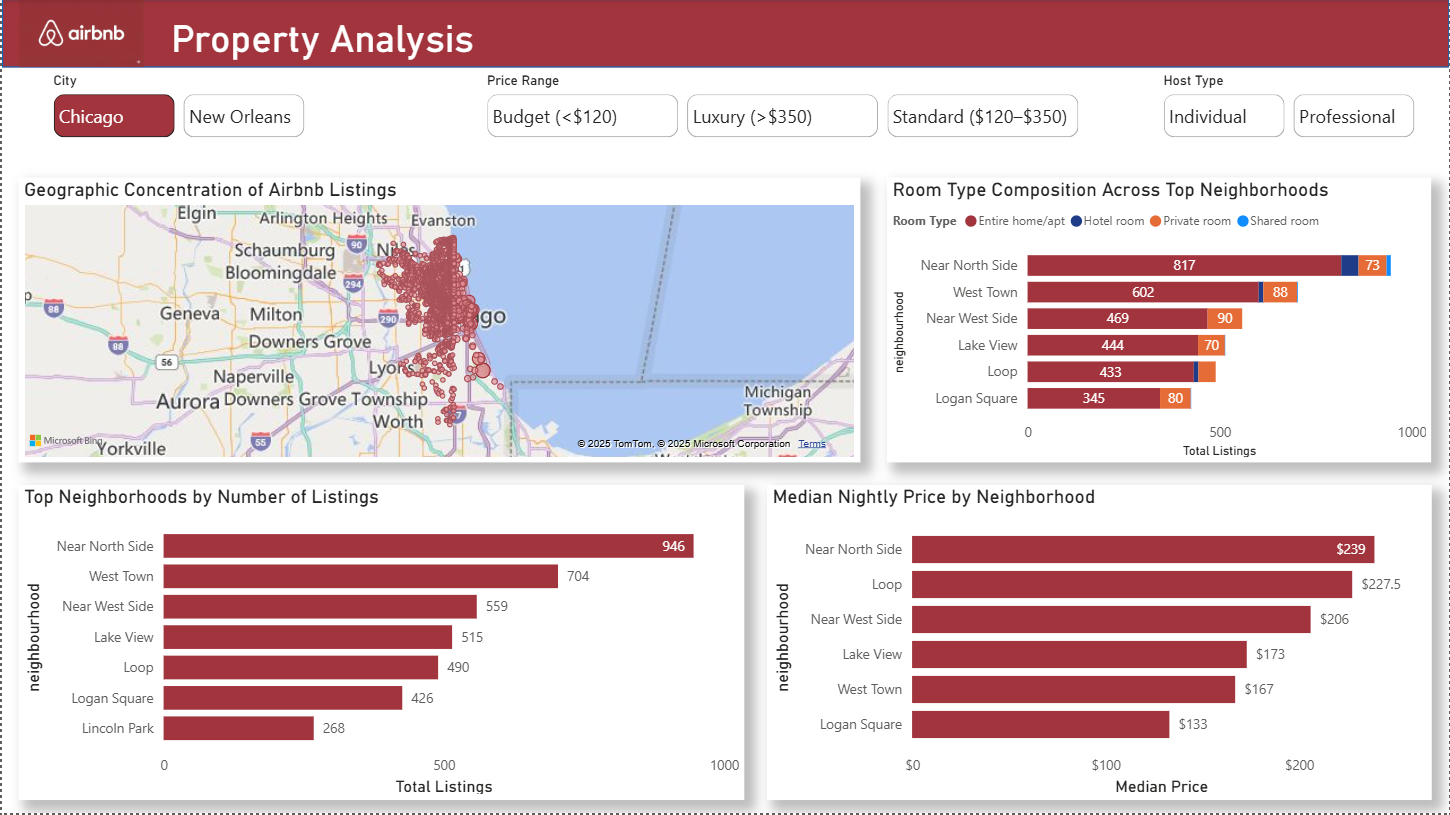

What the dashboard file says about the page in this screenshot:
{"tool":"powerbi","page":{"name":"02 – Property & Location Analysis","canvas":[1280,720],"ordinal":1},"visuals":[{"type":"group","id":"g1","title":"Group 1","box":[0,0,1280.2,59.9],"z":0},{"type":"textbox","box":[144.7,10.2,838.9,49.7],"z":1000},{"type":"map","title":"Geographic Concentration of Airbnb Listings","fields":{"X":["airbnb_clean_dataset.longitude"],"Y":["airbnb_clean_dataset.latitude"],"Size":["Kpi.Total Listings"]},"box":[14.6,157.9,744.3,252.1],"z":2000},{"type":"shape","box":[0,0,1280.2,60.6],"z":3000,"group":"g1"},{"type":"clusteredBarChart","title":"Top Neighborhoods by Number of Listings","fields":{"Category":["airbnb_clean_dataset.neighbourhood"],"Y":["Kpi.Total Listings"]},"box":[14.6,429.9,642.2,278.6],"z":3000},{"type":"barChart","title":"Room Type Composition Across Top Neighborhoods","fields":{"Series":["airbnb_clean_dataset.room_type"],"Category":["airbnb_clean_dataset.neighbourhood"],"Y":["Kpi.Total Listings"]},"box":[782.8,157.9,481.6,252.1],"z":4000},{"type":"clusteredBarChart","title":"Median Nightly Price by Neighborhood","fields":{"Category":["airbnb_clean_dataset.neighbourhood"],"Y":["Kpi.Median Price"]},"box":[676.7,429.9,587.8,278.6],"z":5000},{"type":"advancedSlicerVisual","fields":{"Values":["airbnb_clean_dataset.City"]},"box":[38.5,65,237.5,63.7],"z":6000},{"type":"advancedSlicerVisual","fields":{"Values":["airbnb_clean_dataset.Price Range"]},"box":[421.9,65,537.4,63.7],"z":7000},{"type":"image","box":[14.6,0.6,111.1,59.9],"z":8000,"group":"g1"},{"type":"advancedSlicerVisual","fields":{"Values":["airbnb_clean_dataset.Host Type"]},"box":[1020.3,65,237.5,63.7],"z":8000}]}

Visuals, with their boxes in screenshot pixels (x1, y1, x2, y2), scaled from the page's 1280x720 canvas onto the 1450x815 screenshot:
"Group 1" group: x1=0 y1=0 x2=1449 y2=68
textbox: x1=164 y1=12 x2=1114 y2=68
"Geographic Concentration of Airbnb Listings" map: x1=17 y1=179 x2=860 y2=464
shape: x1=0 y1=0 x2=1449 y2=69
"Top Neighborhoods by Number of Listings" clusteredBarChart: x1=17 y1=487 x2=744 y2=802
"Room Type Composition Across Top Neighborhoods" barChart: x1=887 y1=179 x2=1432 y2=464
"Median Nightly Price by Neighborhood" clusteredBarChart: x1=767 y1=487 x2=1432 y2=802
advancedSlicerVisual - airbnb_clean_dataset.City: x1=44 y1=74 x2=313 y2=146
advancedSlicerVisual - airbnb_clean_dataset.Price Range: x1=478 y1=74 x2=1087 y2=146
image: x1=17 y1=1 x2=142 y2=68
advancedSlicerVisual - airbnb_clean_dataset.Host Type: x1=1156 y1=74 x2=1425 y2=146
